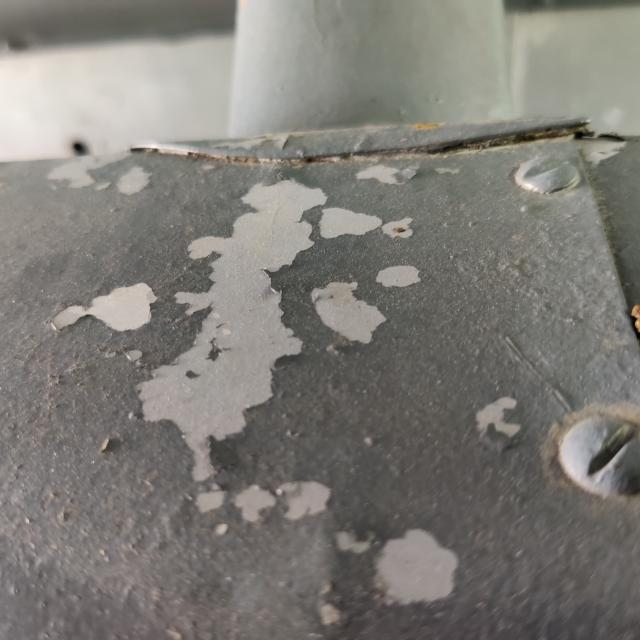paint-off: (30, 152, 439, 529), (354, 495, 472, 640)
